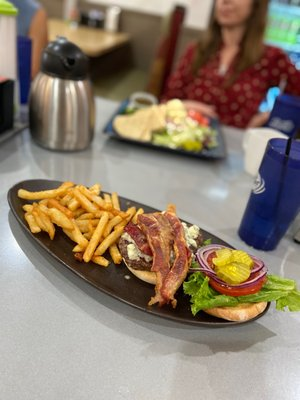curry: (0, 80, 300, 398)
pasta: (143, 3, 188, 101)
